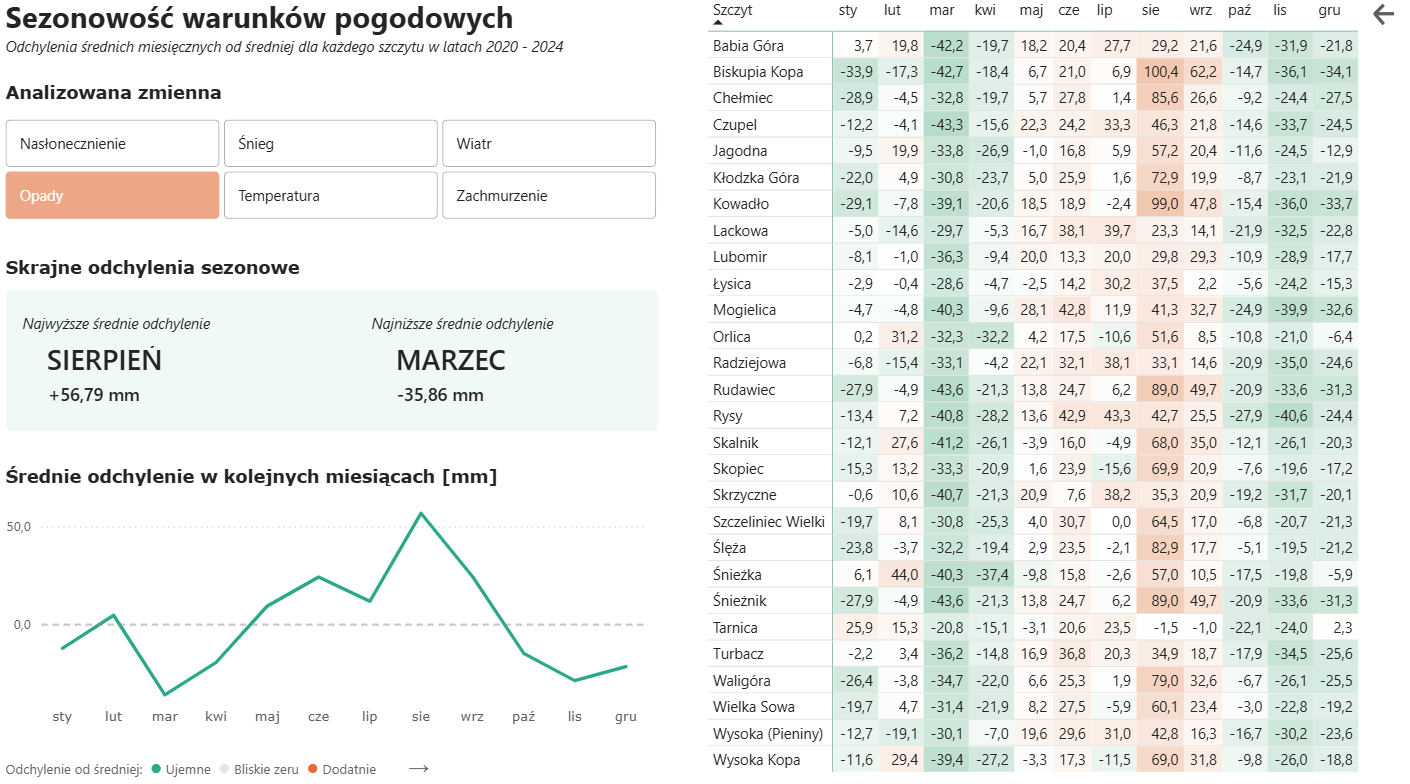

What the dashboard file says about the page in this screenshot:
{"tool":"powerbi","page":{"name":"Sezonowość","canvas":[1280,720],"ordinal":1},"visuals":[{"type":"shape","box":[5.4,271.1,591.2,127.9],"z":0},{"type":"pivotTable","fields":{"Rows":["kgp_all_monthly_clean.Szczyt"],"Columns":["Calendar.MonthName"],"Values":["HeatmapMetric.HeatmapValue"]},"box":[636.6,0,612.1,720],"z":1000},{"type":"advancedSlicerVisual","title":"Analizowana zmienna","fields":{"Values":["HeatmapMetric.Label"]},"box":[0,81.6,602.1,130.6],"z":2000},{"type":"textbox","box":[0,0,630.2,70],"z":3000},{"type":"actionButton","box":[1241,7,38,28],"z":4000},{"type":"cardVisual","title":"Najwyższe średnie odchylenie","fields":{"Data":["HeatmapMetric.KPI Max - Miesiąc"]},"box":[15.4,292.9,266.6,119.7],"z":5000},{"type":"textbox","box":[0,235.8,521.4,57.1],"z":6000},{"type":"cardVisual","title":"Najniższe średnie odchylenie","fields":{"Data":["HeatmapMetric.KPI Min - Miesiąc"]},"box":[331.9,292.9,259.3,119.7],"z":7000},{"type":"lineChart","fields":{"Category":["Calendar.MonthName"],"Y":["HeatmapMetric.KPI Średnie odchylenie"]},"box":[0,429.8,591.2,244.8],"z":8000},{"type":"textbox","box":[0,684.6,591.2,35.4],"z":9000}]}

Visuals, with their boxes in screenshot pixels (x1, y1, x2, y2), scaled from the page's 1280x720 canvas onto the 1410x784 screenshot:
shape: [6, 295, 657, 434]
pivotTable - kgp_all_monthly_clean.Szczyt x Calendar.MonthName: [701, 0, 1376, 783]
"Analizowana zmienna" advancedSlicerVisual: [0, 89, 663, 231]
textbox: [0, 0, 694, 76]
actionButton: [1367, 8, 1409, 38]
"Najwyższe średnie odchylenie" cardVisual: [17, 319, 311, 449]
textbox: [0, 257, 574, 319]
"Najniższe średnie odchylenie" cardVisual: [366, 319, 651, 449]
lineChart - Calendar.MonthName x HeatmapMetric.KPI Średnie odchylenie: [0, 468, 651, 735]
textbox: [0, 745, 651, 783]
